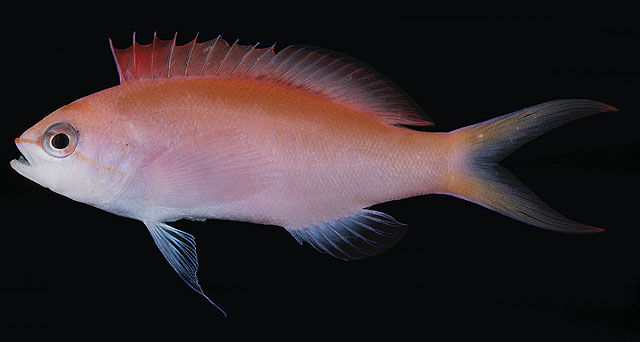fish: (10, 32, 618, 318)
